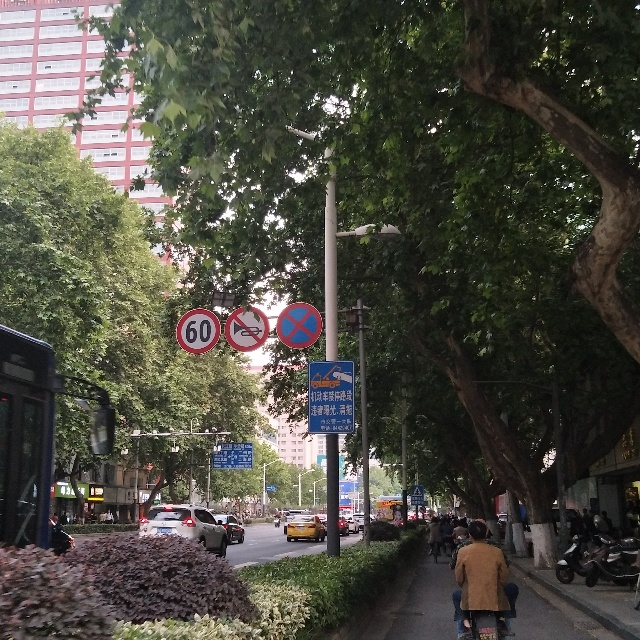nohonk: (225, 307, 270, 351)
stop: (277, 302, 322, 348)
